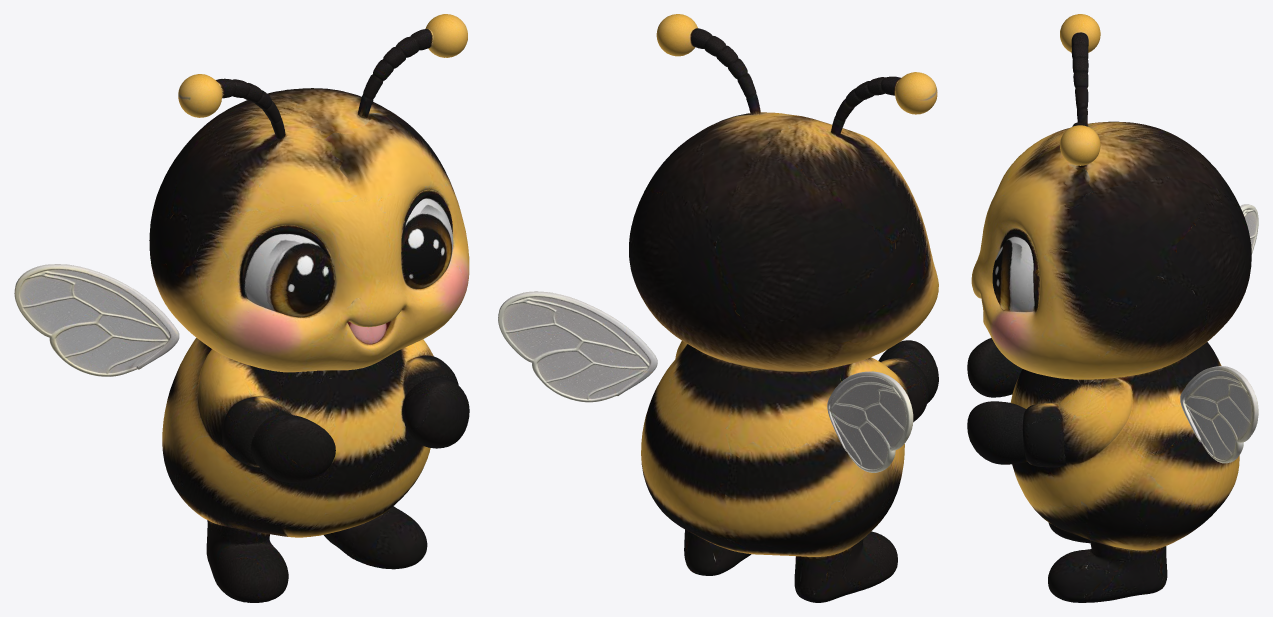
The model's file is bee-mascot.glb.
3 renders of one model, left to right at view 1: azimuth 30°, elevation 25°; view 2: azimuth 150°, elevation 25°; view 3: azimuth 270°, elevation 25°, orthographic. The views are drawn at different scales.
Visible parts, largest first — view 1: Meshy_AI_chibi_bee_mascot_3d_0916075928_image-to-3d-texture; view 2: Meshy_AI_chibi_bee_mascot_3d_0916075928_image-to-3d-texture; view 3: Meshy_AI_chibi_bee_mascot_3d_0916075928_image-to-3d-texture.
Boxes of the visible parts, x1,y1,x2,y2 form: Meshy_AI_chibi_bee_mascot_3d_0916075928_image-to-3d-texture: (14,14,469,602); Meshy_AI_chibi_bee_mascot_3d_0916075928_image-to-3d-texture: (498,14,938,602); Meshy_AI_chibi_bee_mascot_3d_0916075928_image-to-3d-texture: (967,14,1258,602).
Bounding box in the file's own units: 1.61 × 1.9 × 1.02.
Materials: 1 (1 with a texture image).
